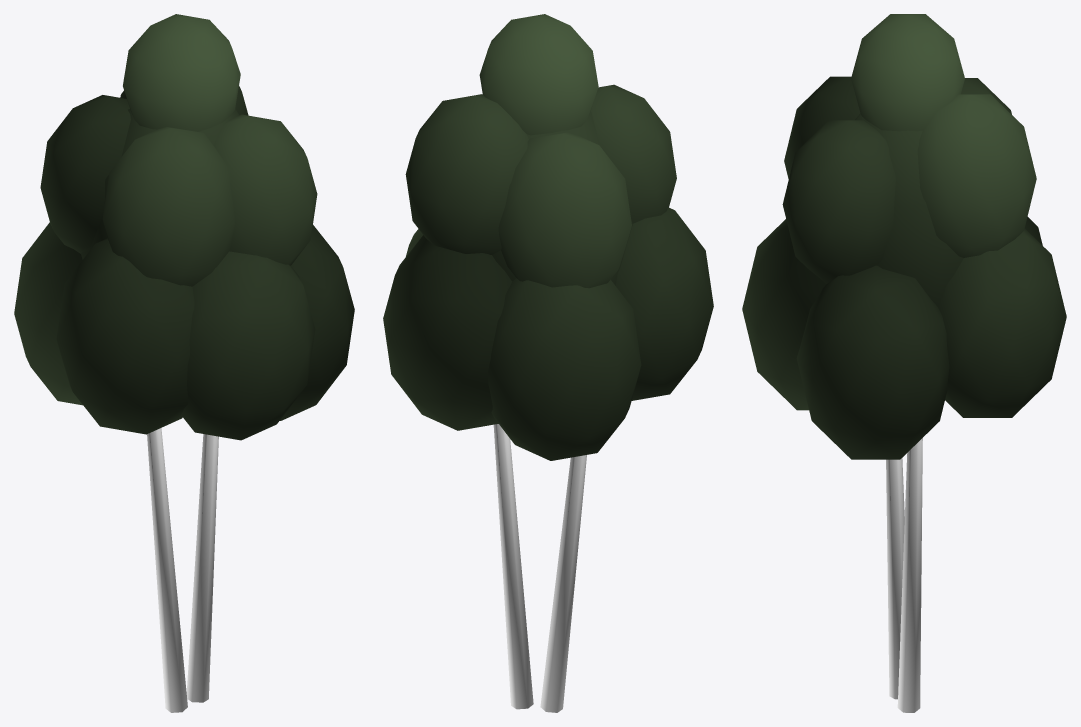
Rendered from scatter3.fbx.
The picture shows the model from 3 angles, left to right: view 1: azimuth 30°, elevation 25°; view 2: azimuth 150°, elevation 25°; view 3: azimuth 270°, elevation 25°; orthographic projection.
Parts seen in each view (by area): view 1: a2000/200/scatter3; view 2: a2000/200/scatter3; view 3: a2000/200/scatter3.
Part boxes in pixels (bbox=[...]): a2000/200/scatter3: bbox=[14, 14, 354, 712]; a2000/200/scatter3: bbox=[383, 14, 713, 712]; a2000/200/scatter3: bbox=[742, 14, 1066, 712].
Size of the model in its own units: 2.6 by 6.06 by 2.6.
